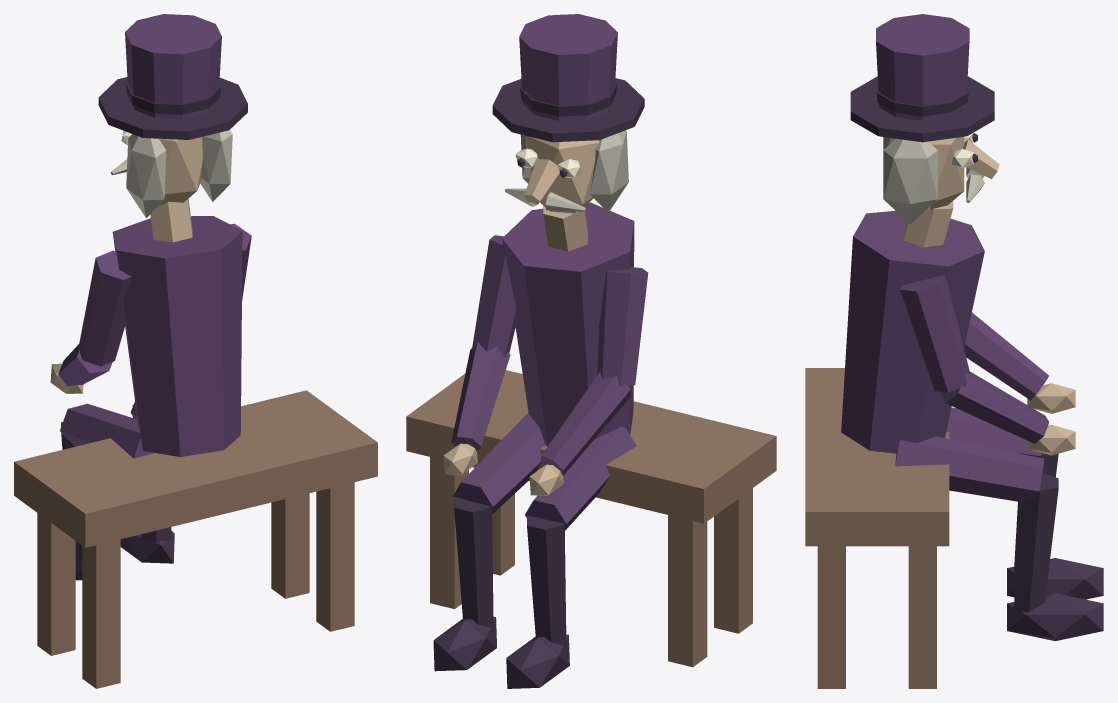
Rendered from Keeper.fbx.
The picture shows the model from 3 angles, left to right: view 1: azimuth 30°, elevation 25°; view 2: azimuth 150°, elevation 25°; view 3: azimuth 270°, elevation 25°; orthographic projection.
Visible parts, largest first — view 1: BenchSeat, Body, TopHat, BenchLeg0.36_0.2, BenchLeg-0.36_0.2, BenchLeg0.36_-0.04, HatBrim, SleeveUpper1, BenchLeg-0.36_-0.04, Thigh1, SideHair1, Head (+5 smaller); view 2: BenchSeat, Body, TopHat, BenchLeg0.36_-0.04, BenchLeg0.36_0.2, SleeveUpper1, HatBrim, Thigh-1, Shin-1, Shin1, Thigh1, BenchLeg-0.36_-0.04 (+13 smaller); view 3: Body, BenchSeat, TopHat, Thigh-1, SleeveUpper-1, HatBrim, Shin-1, BenchLeg-0.36_-0.04, BenchLeg-0.36_0.2, SideHair-1, SleeveLower-1, Boot-1 (+10 smaller).
Boxes of the visible parts, x1,y1,x2,y2 form: BenchSeat: (14,390,377,547); Body: (112,216,242,456); TopHat: (125,14,221,118); BenchLeg0.36_0.2: (82,539,120,688); BenchLeg-0.36_0.2: (316,482,354,631); BenchLeg0.36_-0.04: (37,513,75,655); HatBrim: (98,77,247,139); SleeveUpper1: (78,250,131,366); BenchLeg-0.36_-0.04: (271,493,309,598); Thigh1: (60,403,154,458); SideHair1: (126,134,166,218); Head: (159,137,202,205); BenchSeat: (406,370,776,523); Body: (502,202,634,446); TopHat: (519,14,617,120); BenchLeg0.36_-0.04: (668,515,707,667); BenchLeg0.36_0.2: (714,488,752,633); SleeveUpper1: (597,267,648,386); HatBrim: (492,78,644,142); Thigh-1: (453,412,545,514); Shin-1: (454,497,493,629); Shin1: (527,515,566,647); Thigh1: (525,426,636,530); BenchLeg-0.36_-0.04: (430,457,468,608); Body: (841,210,984,453); BenchSeat: (805,368,949,546); TopHat: (876,14,969,120); Thigh-1: (895,436,1044,502); SleeveUpper-1: (900,275,970,392); HatBrim: (850,76,994,142); Shin-1: (1014,473,1058,612); BenchLeg-0.36_-0.04: (908,546,936,688); BenchLeg-0.36_0.2: (817,546,845,688); SideHair-1: (883,138,937,224); SleeveLower-1: (941,371,1049,443); Boot-1: (1007,593,1103,641).
Size of the model in its own units: 0.9 by 1.72 by 0.7876.
